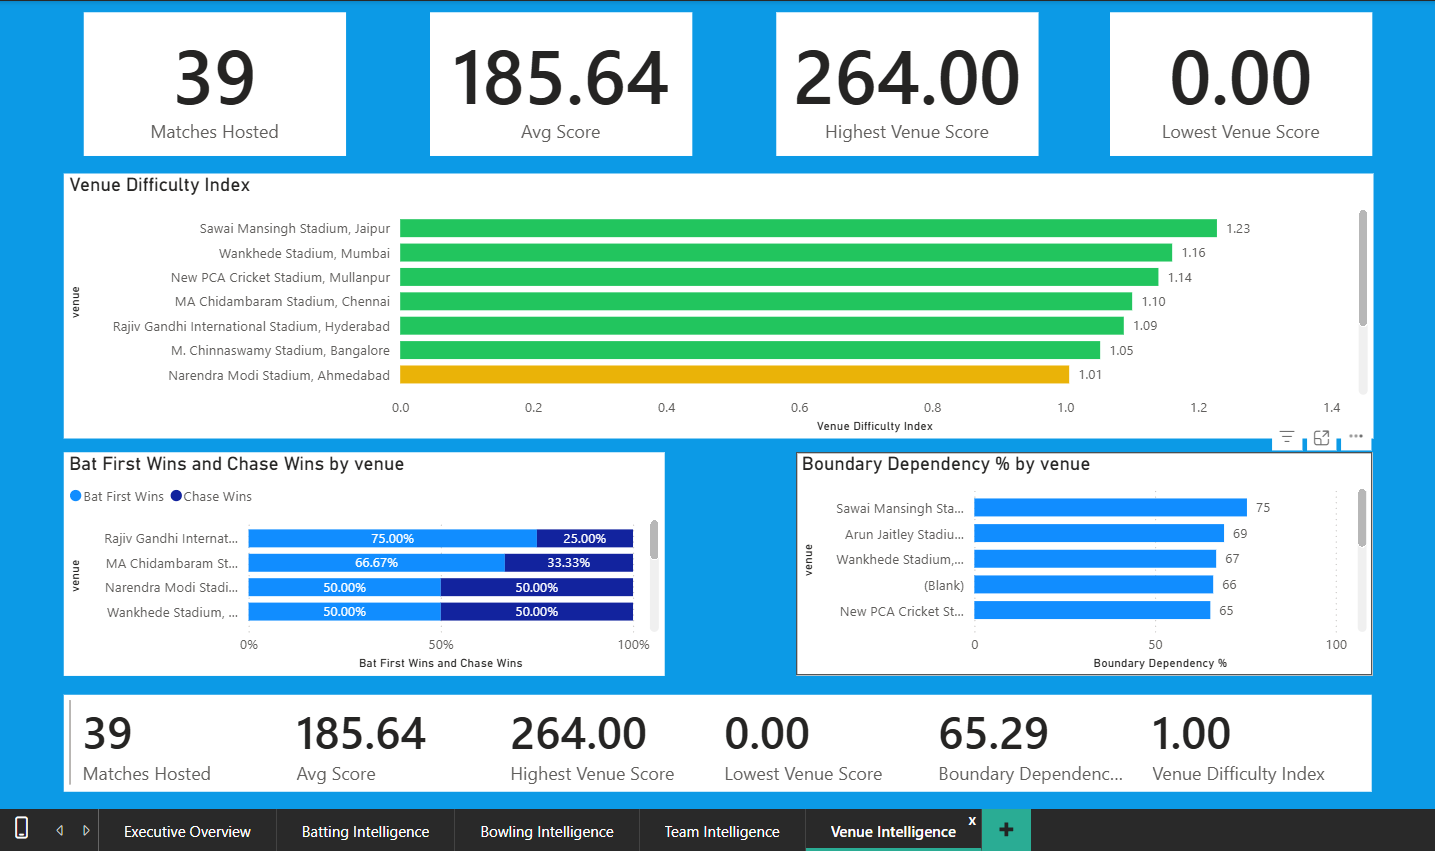

Layout of this report page (visuals, bound fields, positions):
{"tool":"powerbi","page":{"name":"Venue Intelligence","canvas":[1280,720],"ordinal":4},"visuals":[{"type":"card","fields":{"Values":["New Measures.Venue Avg Score"]},"box":[382.8,9.6,233.3,127.6],"z":0},{"type":"card","fields":{"Values":["New Measures.Highest Venue Score"]},"box":[691.6,9.6,233.3,127.6],"z":1000},{"type":"card","fields":{"Values":["New Measures.Matches Hosted"]},"box":[74.1,9.6,233.3,127.6],"z":2000},{"type":"card","fields":{"Values":["New Measures.Lowest Venue Score"]},"box":[988,9.6,233.3,127.6],"z":3000},{"type":"clusteredBarChart","title":"Venue Difficulty Index","fields":{"Y":["New Measures.Venue Difficulty Index"],"Category":["matches.venue"]},"box":[56.3,153.7,1166.4,236],"z":4000},{"type":"hundredPercentStackedBarChart","fields":{"Y":["New Measures.Bat First Wins","New Measures.Chase Wins"],"Category":["matches.venue"]},"box":[56.3,402.1,535.2,199],"z":5000},{"type":"clusteredBarChart","fields":{"Category":["matches.venue"],"Y":["New Measures.Boundary Dependency %"]},"box":[709.4,402.1,513.2,199],"z":6000},{"type":"multiRowCard","fields":{"Values":["New Measures.Matches Hosted","New Measures.Venue Avg Score","New Measures.Highest Venue Score","New Measures.Lowest Venue Score","New Measures.Boundary Dependency %","New Measures.Venue Difficulty Index"]},"box":[56.3,617.5,1165,86.4],"z":7000}]}

Visuals, with their boxes on the page's 1280x720 design canvas (x1, y1, x2, y2). These are canvas units, not pixel positions in the 1435x851 screenshot, which may show the page scaled, cropped or inside an application window:
card - New Measures.Venue Avg Score: {"left": 383, "top": 10, "right": 616, "bottom": 137}
card - New Measures.Highest Venue Score: {"left": 692, "top": 10, "right": 925, "bottom": 137}
card - New Measures.Matches Hosted: {"left": 74, "top": 10, "right": 307, "bottom": 137}
card - New Measures.Lowest Venue Score: {"left": 988, "top": 10, "right": 1221, "bottom": 137}
"Venue Difficulty Index" clusteredBarChart: {"left": 56, "top": 154, "right": 1223, "bottom": 390}
hundredPercentStackedBarChart - New Measures.Bat First Wins x New Measures.Chase Wins: {"left": 56, "top": 402, "right": 592, "bottom": 601}
clusteredBarChart - matches.venue x New Measures.Boundary Dependency %: {"left": 709, "top": 402, "right": 1223, "bottom": 601}
multiRowCard - New Measures.Matches Hosted x New Measures.Venue Avg Score: {"left": 56, "top": 618, "right": 1221, "bottom": 704}
